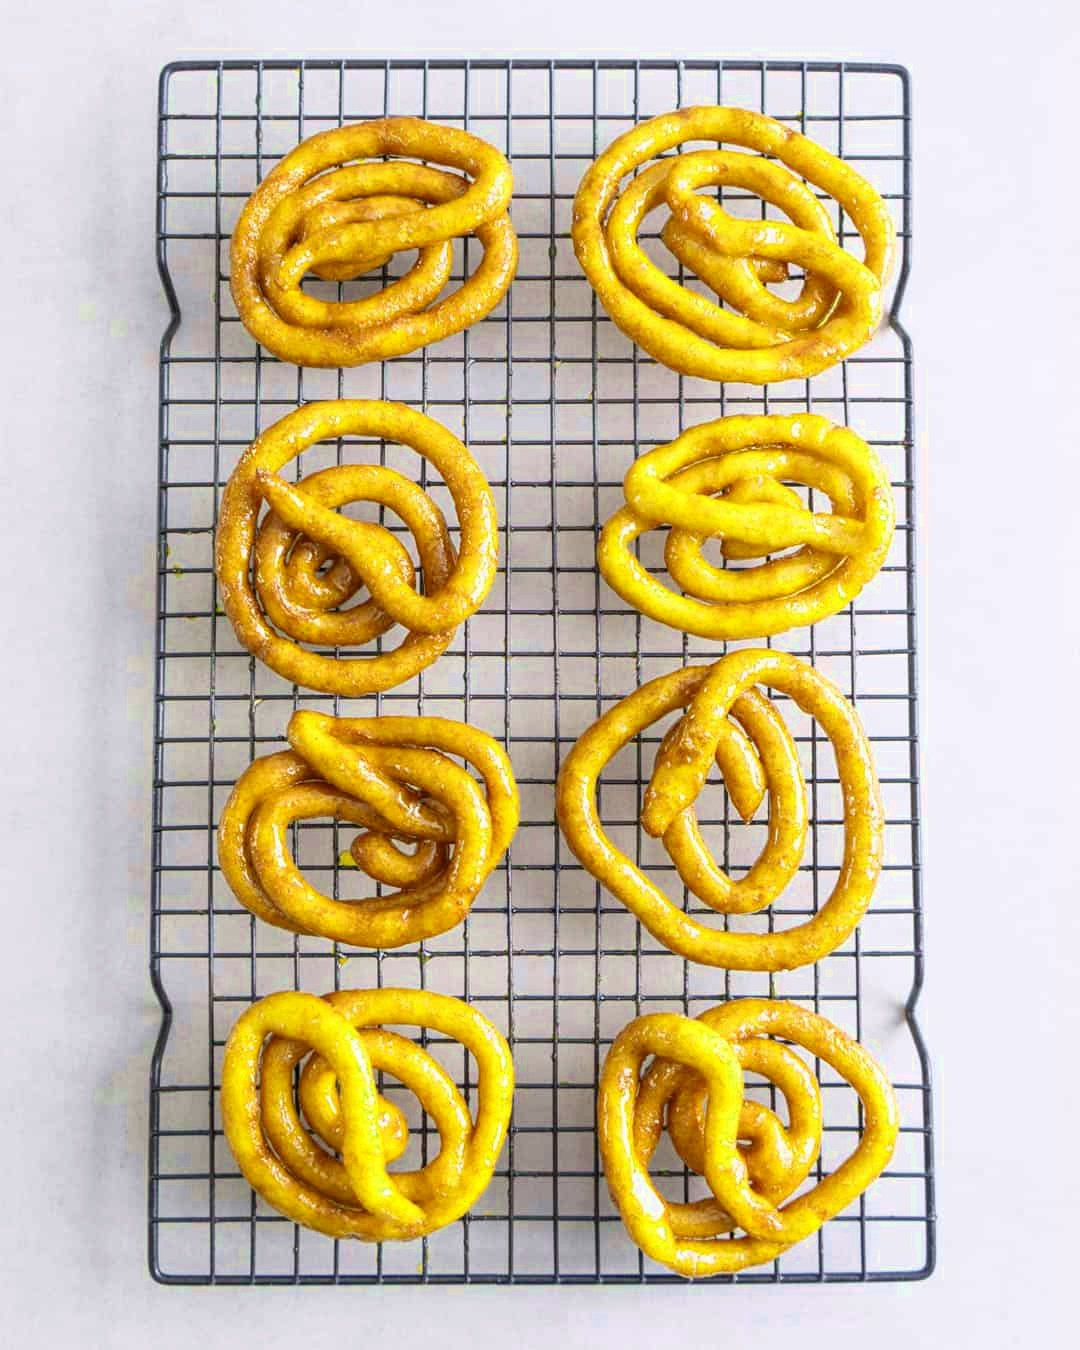pani_walalu: (562, 644, 883, 964), (573, 105, 893, 382), (205, 399, 500, 698), (600, 993, 901, 1274), (217, 984, 516, 1243), (219, 710, 533, 944), (235, 121, 521, 363), (594, 417, 887, 638)
